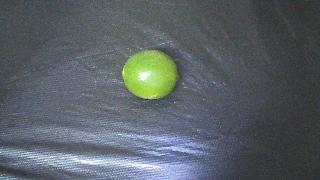LOCAL: (122, 50, 179, 99)
